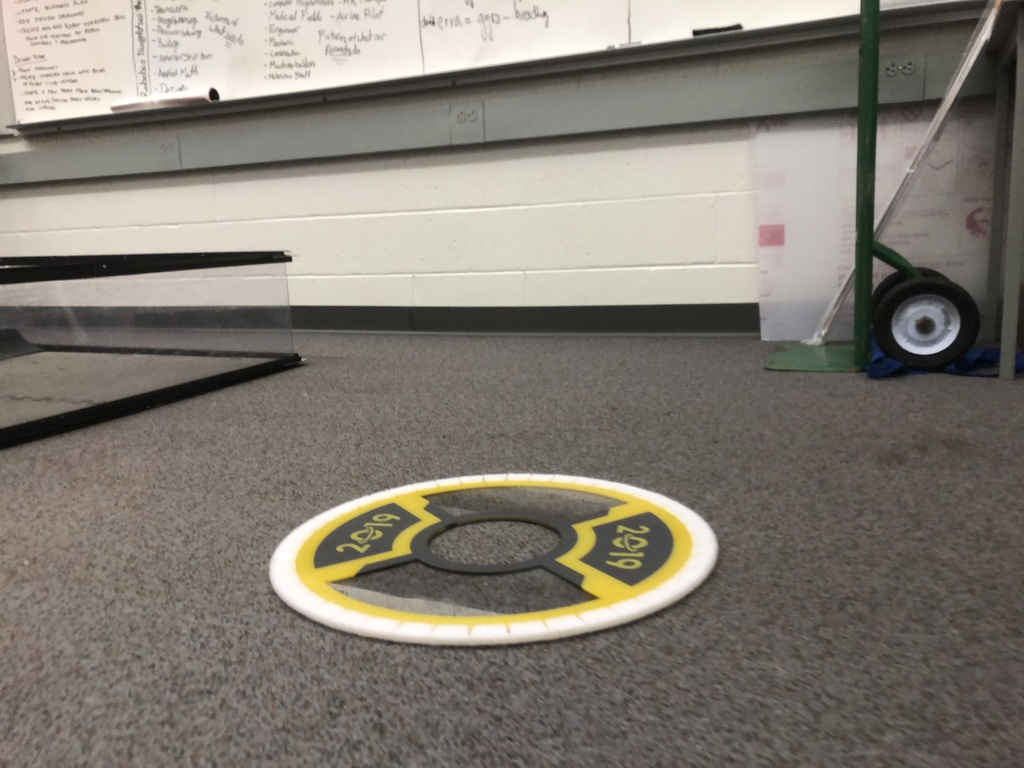hatch_panel: (260, 456, 758, 656)
